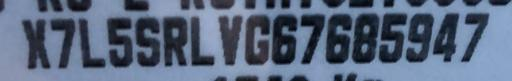letter: (75, 14, 107, 69), (18, 18, 50, 71), (378, 10, 408, 63), (324, 9, 352, 64), (432, 11, 460, 66), (216, 13, 244, 68), (105, 15, 133, 70), (461, 11, 489, 64), (406, 11, 434, 64), (351, 12, 379, 65), (298, 12, 326, 65), (270, 13, 298, 66), (160, 14, 188, 67), (244, 13, 270, 66), (188, 14, 214, 67), (134, 15, 160, 68), (50, 17, 76, 70)
